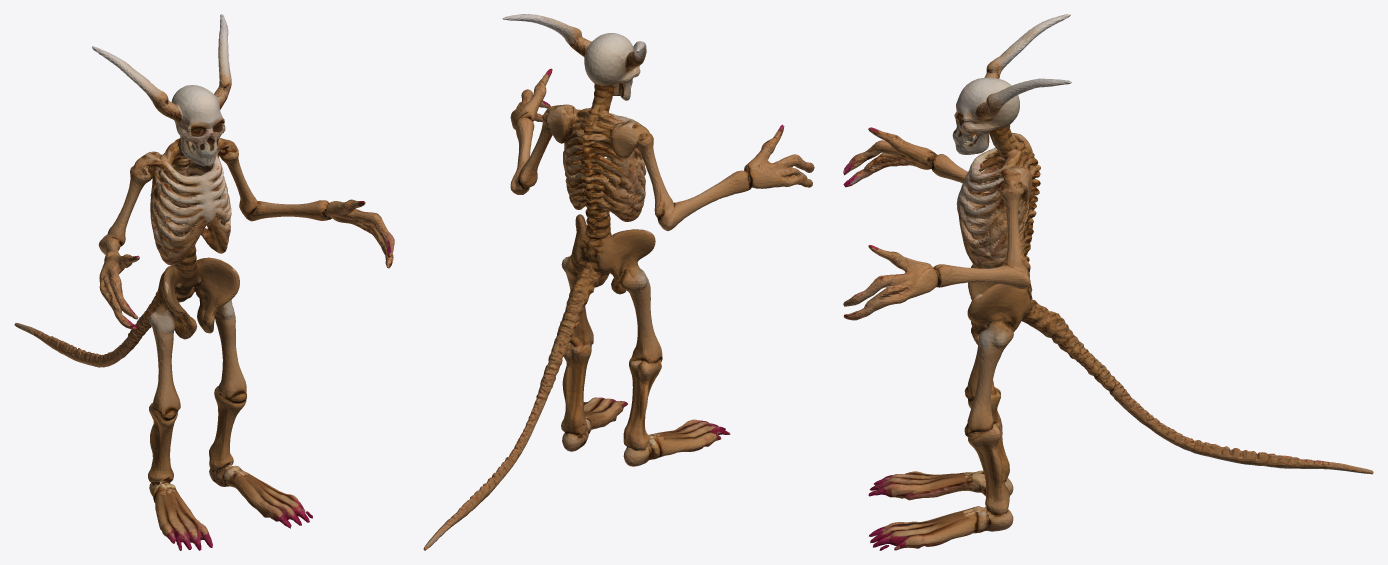
The model's file is undead_skeleton.glb.
3 views of the same model, side by side, from view 1: azimuth 30°, elevation 25°; view 2: azimuth 150°, elevation 25°; view 3: azimuth 270°, elevation 25° (orthographic). The views are drawn at different scales.
Parts seen in each view (by area): view 1: textured_mesh.obj; view 2: textured_mesh.obj; view 3: textured_mesh.obj.
Part boxes in pixels (left/top/right/bottom): textured_mesh.obj: left=14, top=14, right=394, bottom=550; textured_mesh.obj: left=423, top=14, right=814, bottom=550; textured_mesh.obj: left=843, top=14, right=1373, bottom=550.
Size of the model in its own units: 1.27 by 1.95 by 1.99.
Materials: 1 (1 with a texture image).
